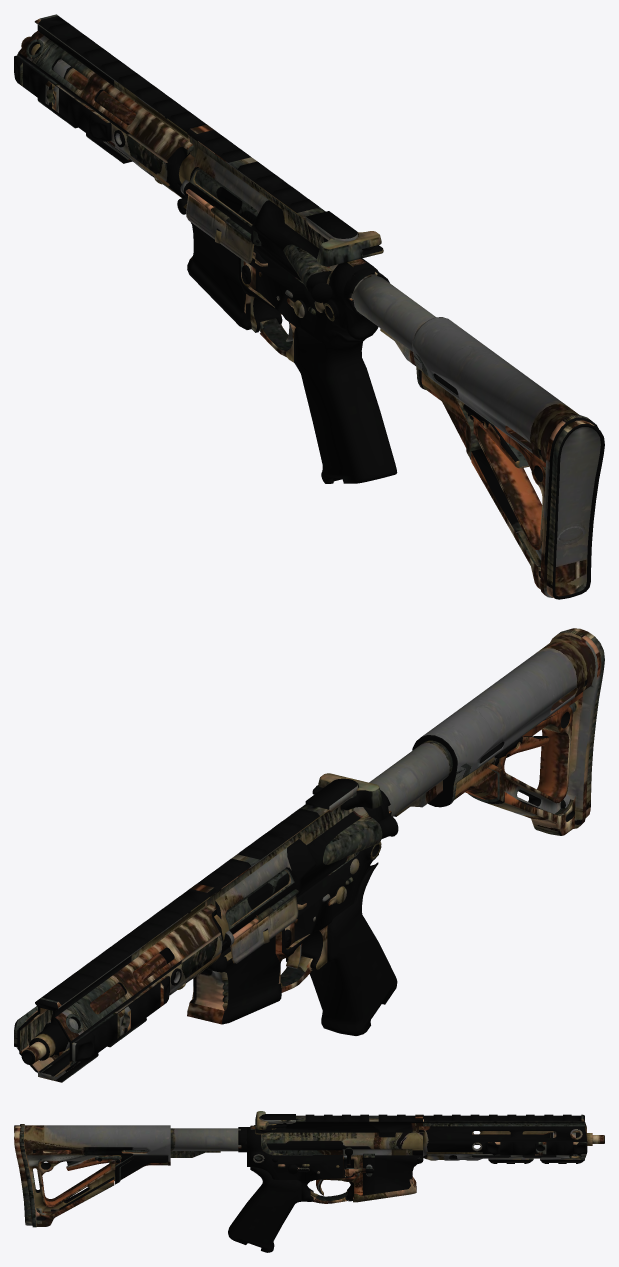
File: R4C-Spartian-Authority.glb
3 views of the same model, one above another, from view 1: azimuth 30°, elevation 25°; view 2: azimuth 150°, elevation 25°; view 3: azimuth 270°, elevation 25° (orthographic). The views are drawn at different scales.
Parts seen in each view (by area): view 1: R4C Spartian Authority; view 2: R4C Spartian Authority; view 3: R4C Spartian Authority.
Part boxes in pixels (x1,y1,x2,y2): R4C Spartian Authority: [14, 14, 604, 599]; R4C Spartian Authority: [14, 628, 604, 1082]; R4C Spartian Authority: [14, 1111, 604, 1252].
Size of the model in its own units: 0.0476 by 0.1397 by 0.5675.
Materials: 1 (1 with a texture image).
